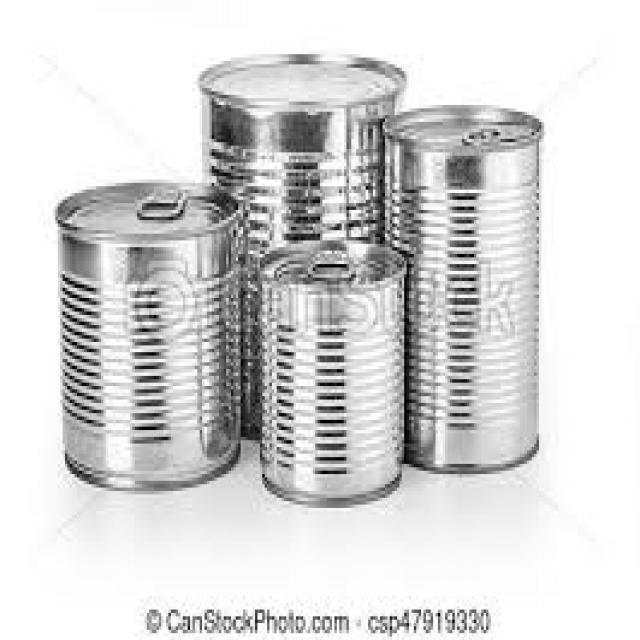recyclable: (197, 48, 406, 438), (382, 104, 544, 474), (56, 180, 240, 490), (257, 237, 405, 504)
